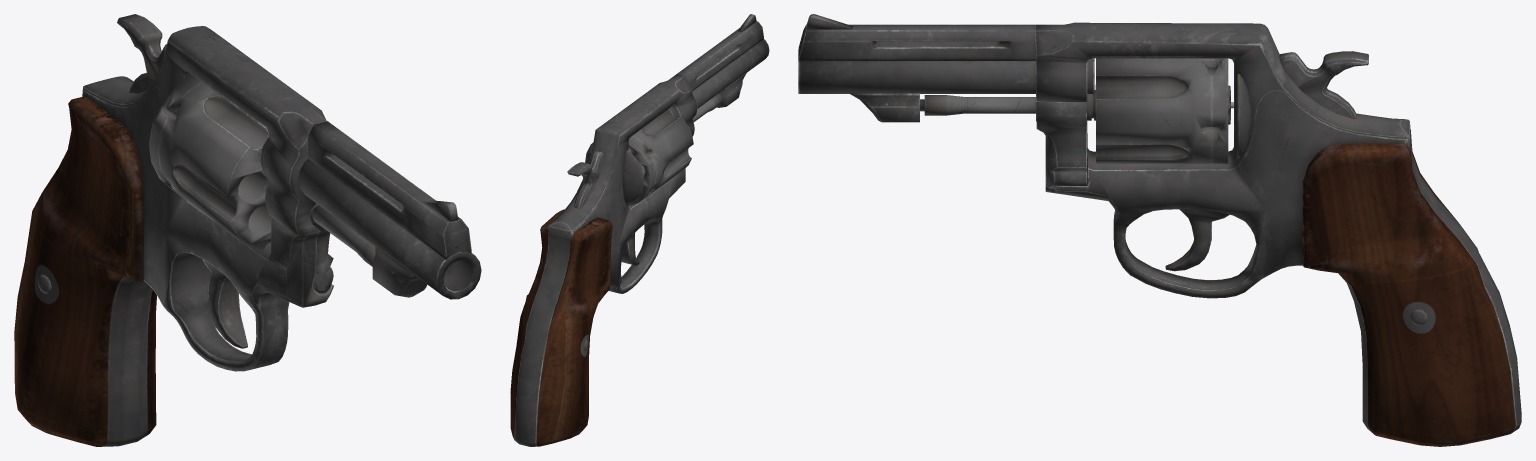
The picture shows the model from 3 angles, left to right: view 1: azimuth 30°, elevation 25°; view 2: azimuth 150°, elevation 25°; view 3: azimuth 270°, elevation 25°; orthographic projection. The views are drawn at different scales.
Visible parts, largest first — view 1: Body_Material_008; view 2: Body_Material_008; view 3: Body_Material_008.
Part boxes in pixels (bbox=[...]): Body_Material_008: bbox=[14, 14, 481, 446]; Body_Material_008: bbox=[510, 14, 769, 446]; Body_Material_008: bbox=[798, 14, 1521, 446].
Bounding box in the file's own units: 0.0494 × 0.1886 × 0.3.
Materials: 1 (1 with a texture image).
